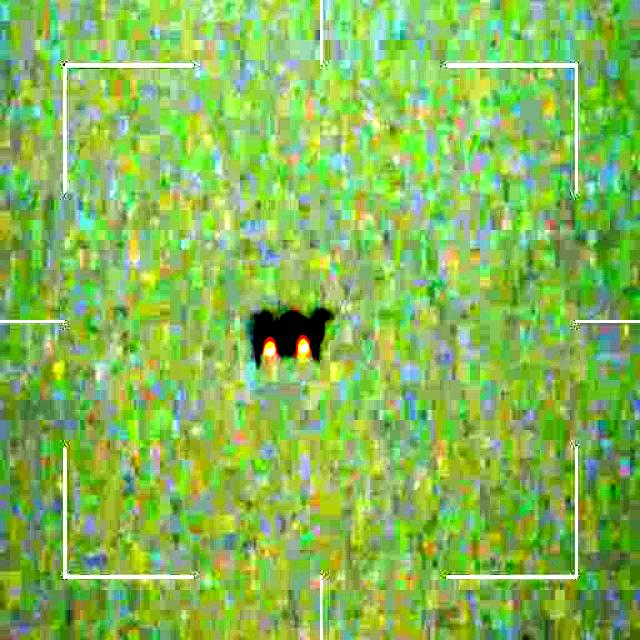bird: (250, 308, 332, 365)
